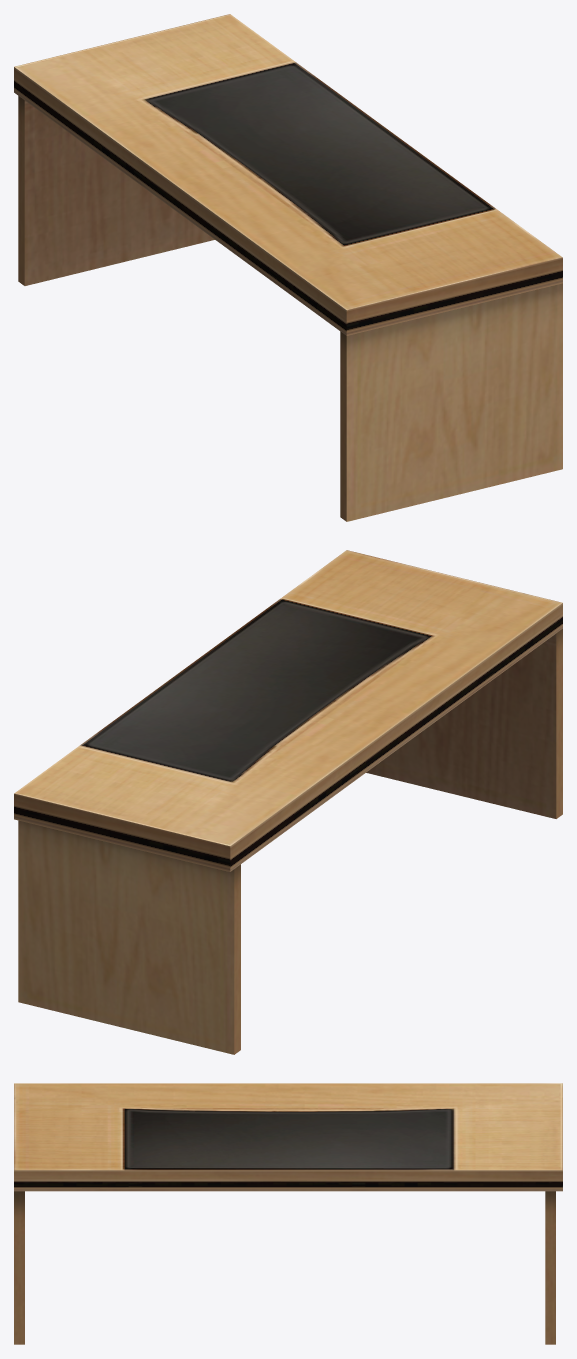
The model's file is 3DGJ_chksh__zzi_xp_zxx.FBX.
The picture shows the model from 3 angles, top to bottom: view 1: azimuth 30°, elevation 25°; view 2: azimuth 150°, elevation 25°; view 3: azimuth 270°, elevation 25°; orthographic projection. The views are drawn at different scales.
Parts seen in each view (by area): view 1: 3DGJ_chksh__zzi_xp_zxx; view 2: 3DGJ_chksh__zzi_xp_zxx; view 3: 3DGJ_chksh__zzi_xp_zxx.
Part boxes in pixels (x1,y1,x2,y2): 3DGJ_chksh__zzi_xp_zxx: (14, 14, 562, 521); 3DGJ_chksh__zzi_xp_zxx: (14, 550, 562, 1054); 3DGJ_chksh__zzi_xp_zxx: (14, 1083, 562, 1344).
Size of the model in its own units: 0.7715 by 0.7216 by 2.06.
